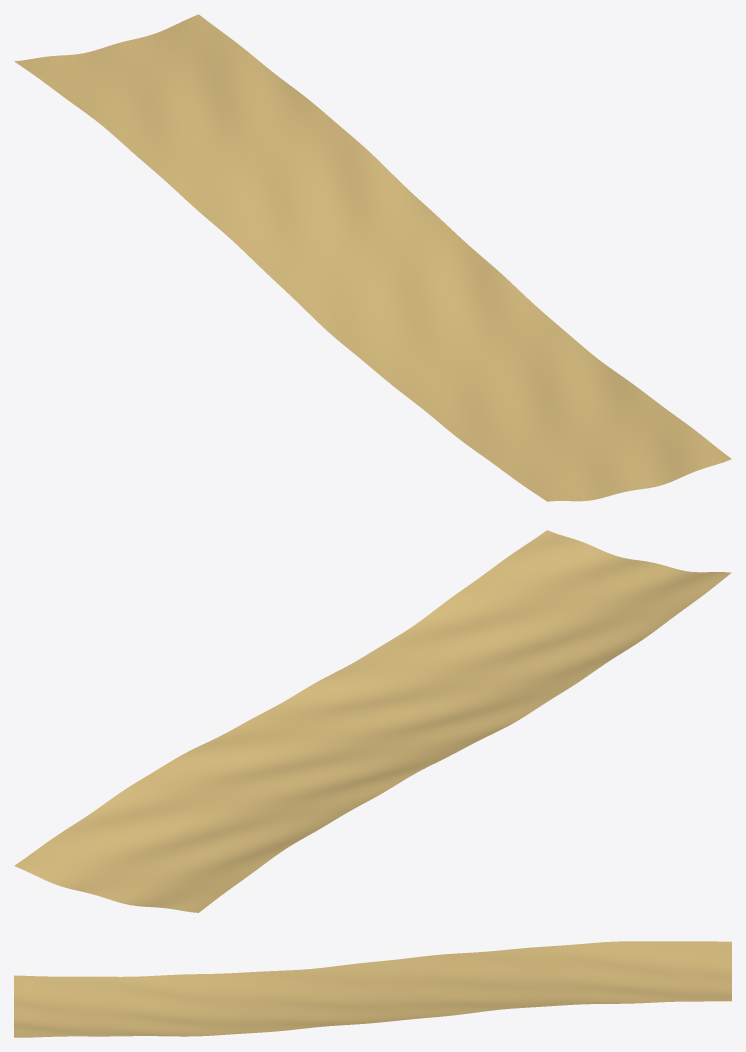
Rendered from sand_floor_01.obj.
3 renders of one model, top to bottom at view 1: azimuth 30°, elevation 25°; view 2: azimuth 150°, elevation 25°; view 3: azimuth 270°, elevation 25°, orthographic. The views are drawn at different scales.
Parts seen in each view (by area): view 1: SandFloor; view 2: SandFloor; view 3: SandFloor.
Boxes of the visible parts, left/top/right/bottom form: SandFloor: left=14, top=14, right=731, bottom=501; SandFloor: left=14, top=530, right=731, bottom=912; SandFloor: left=14, top=941, right=731, bottom=1037.
Size of the model in its own units: 240 by 79.02 by 1200.
Materials: 1 (1 with a texture image).
